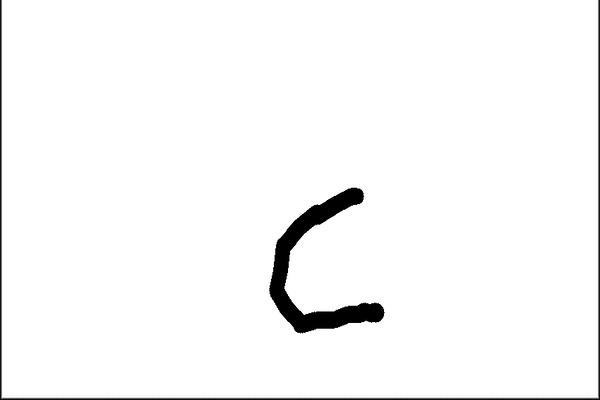C: (259, 182, 395, 337)
